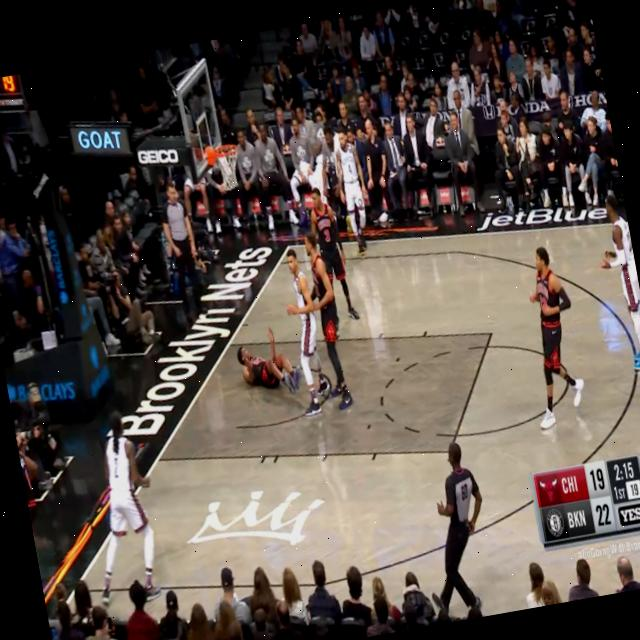foul: (220, 251, 336, 431)
no foul: (514, 207, 640, 439)
